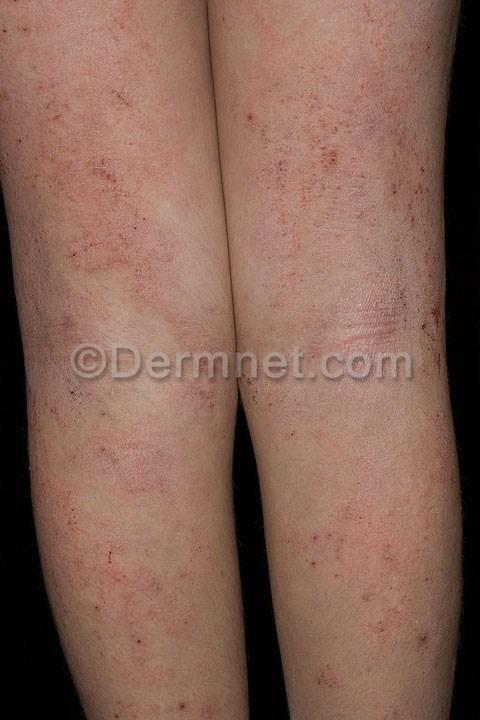eritema 1: (0, 0, 228, 647), (260, 0, 467, 408)
exudacion 1: (21, 70, 164, 272)
exudacion 2: (241, 53, 445, 388)
xerosis 2: (314, 264, 414, 400)
